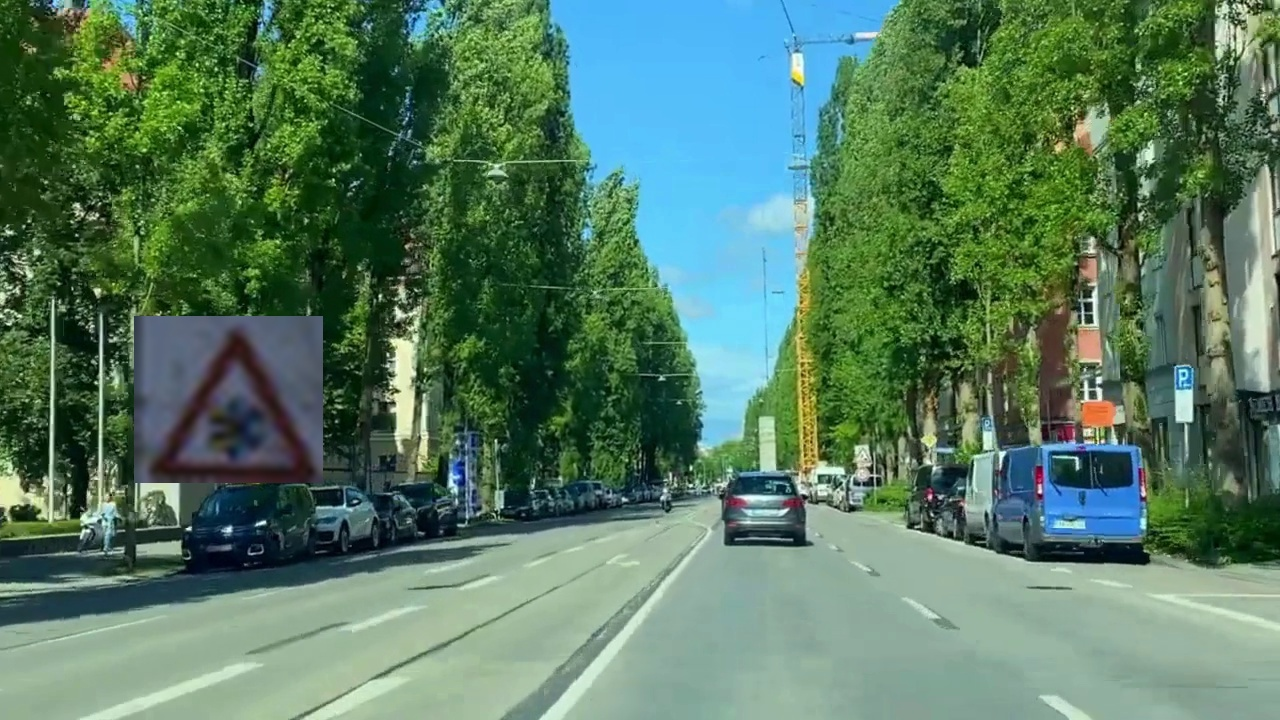Ice/snow: (134, 316, 323, 483)
